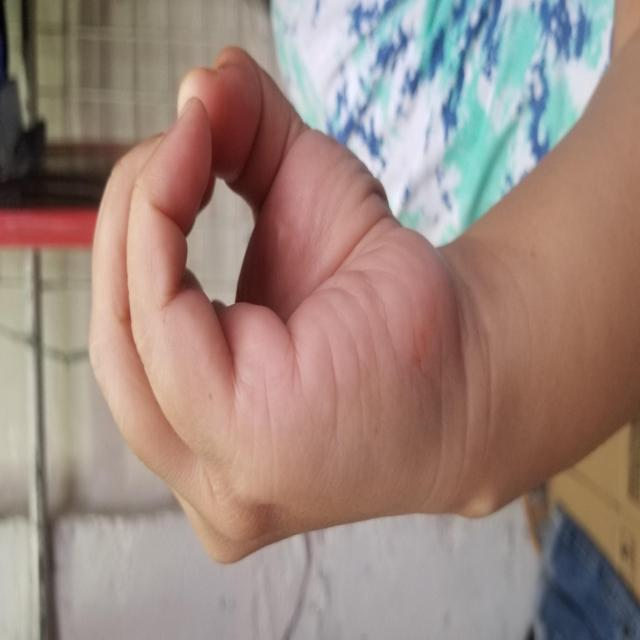O: (74, 87, 594, 448)
